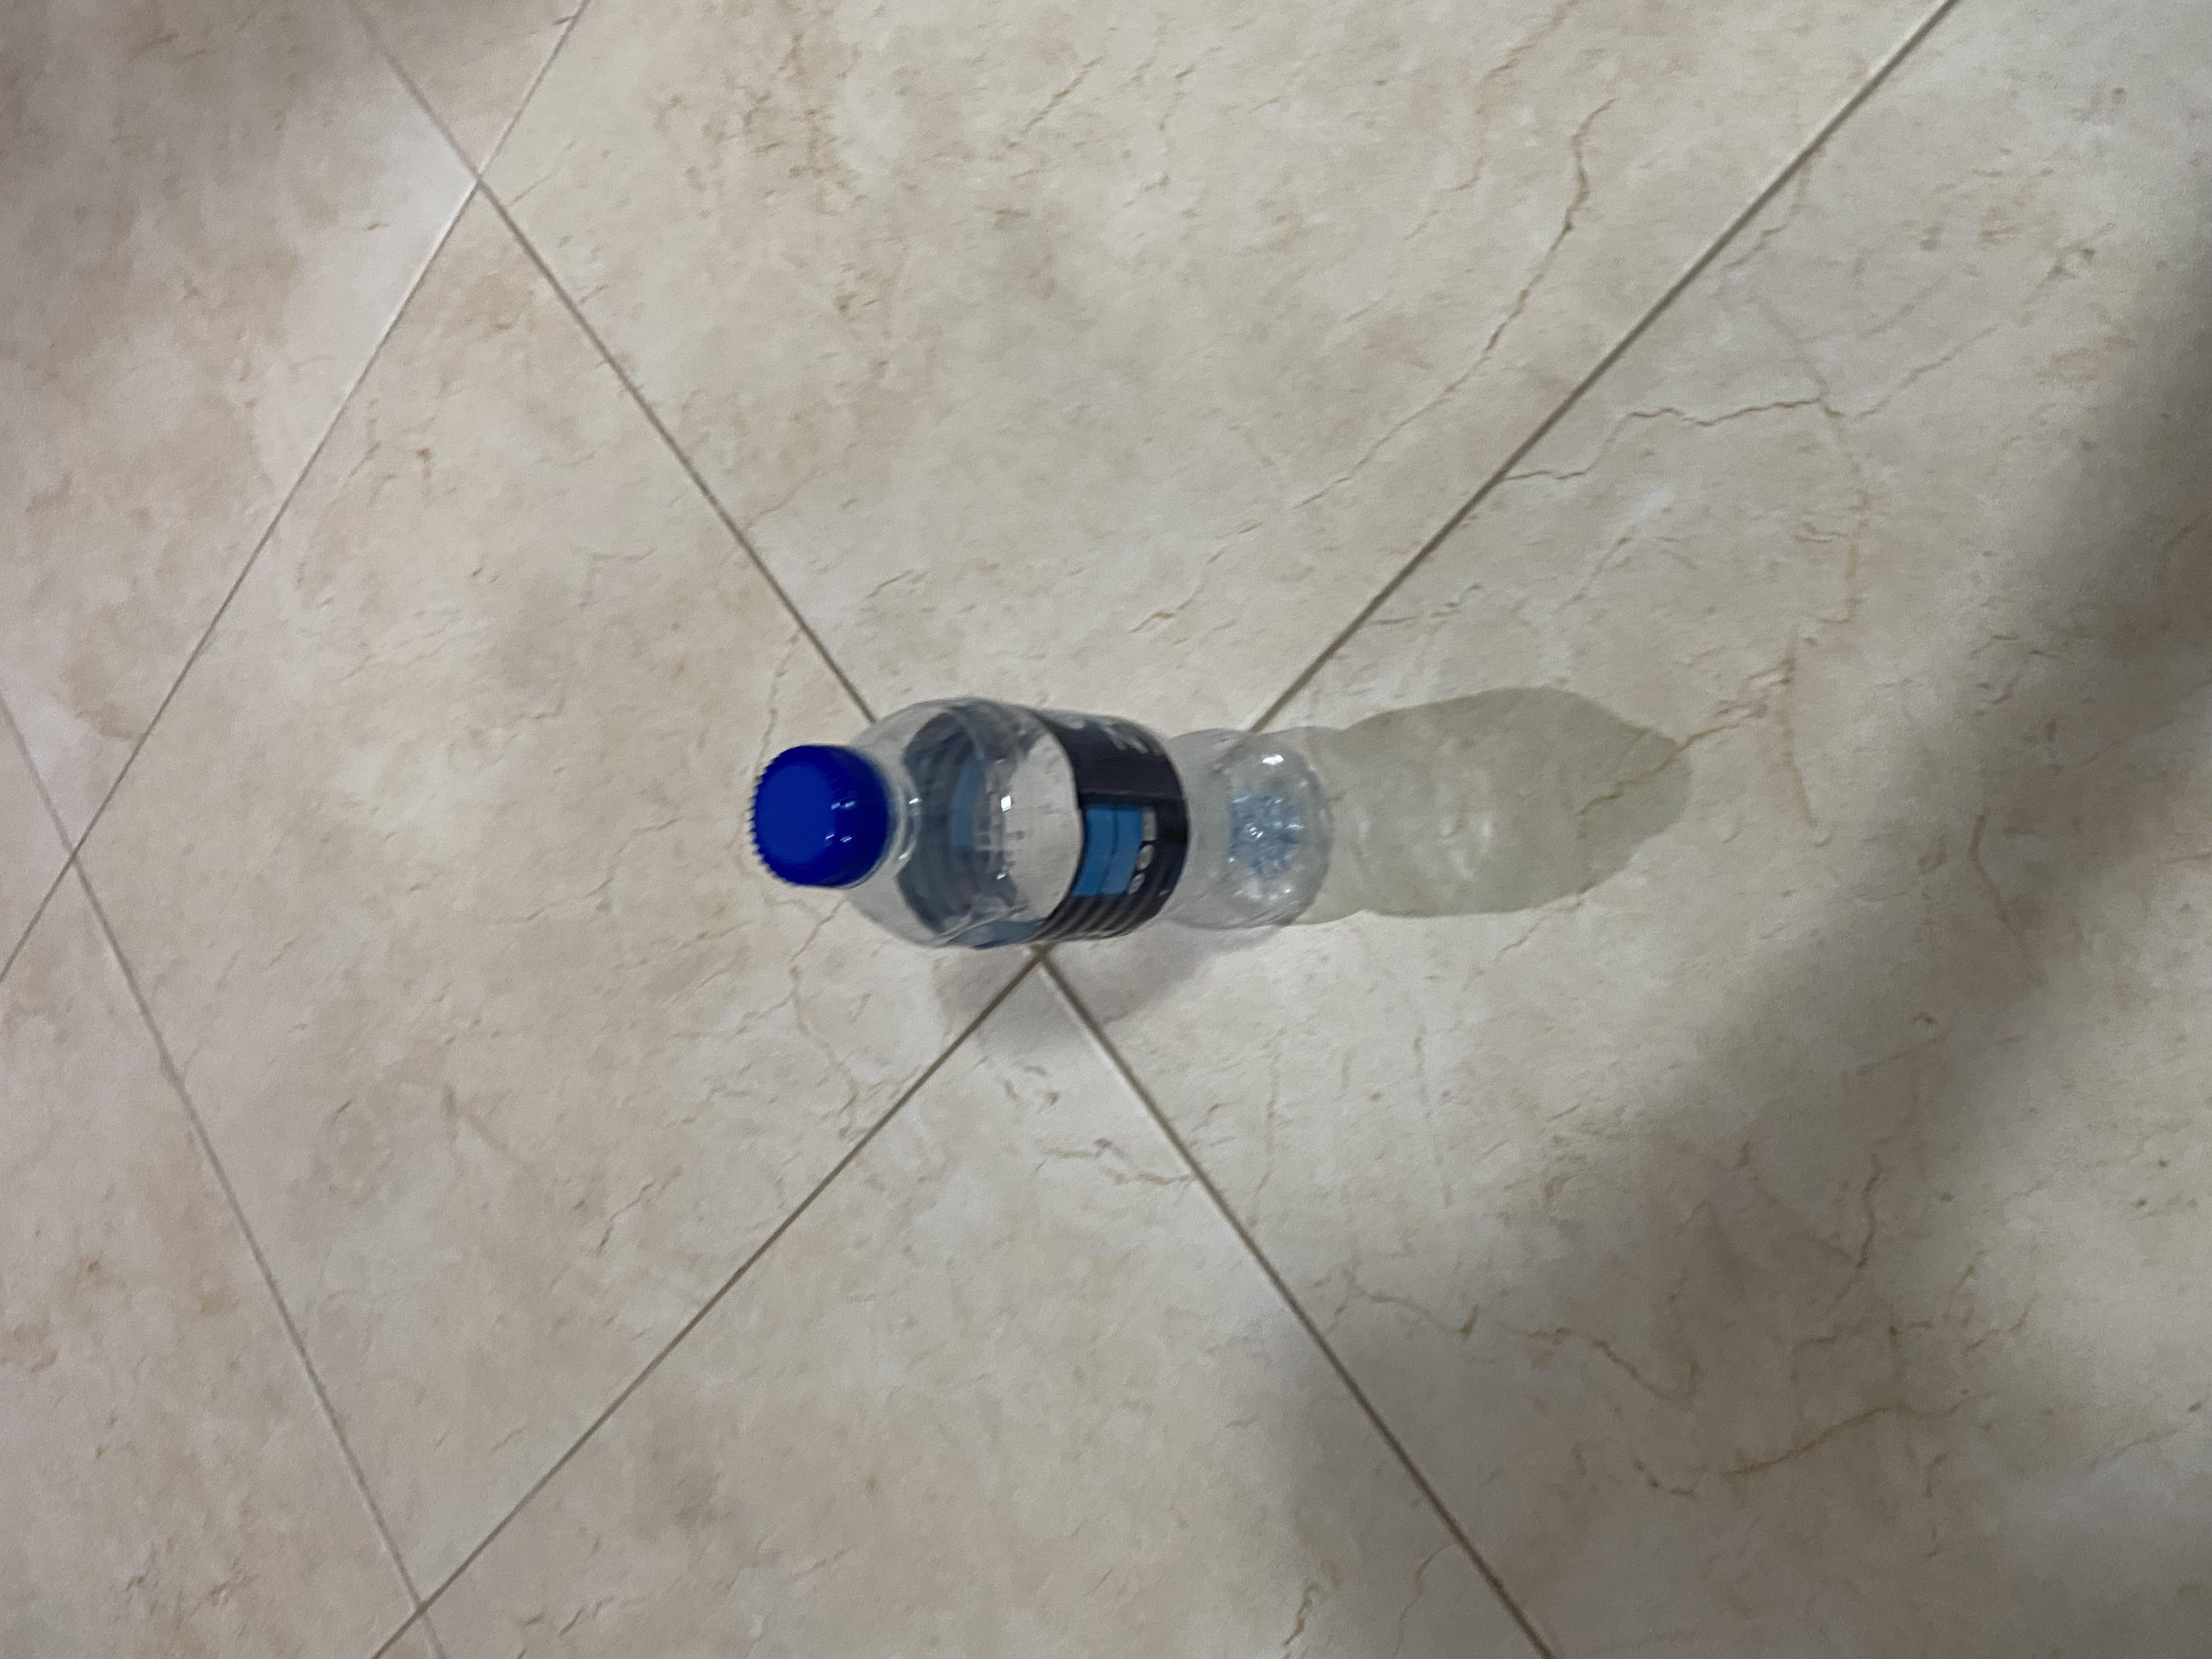bottle: (852, 540, 1320, 1023)
